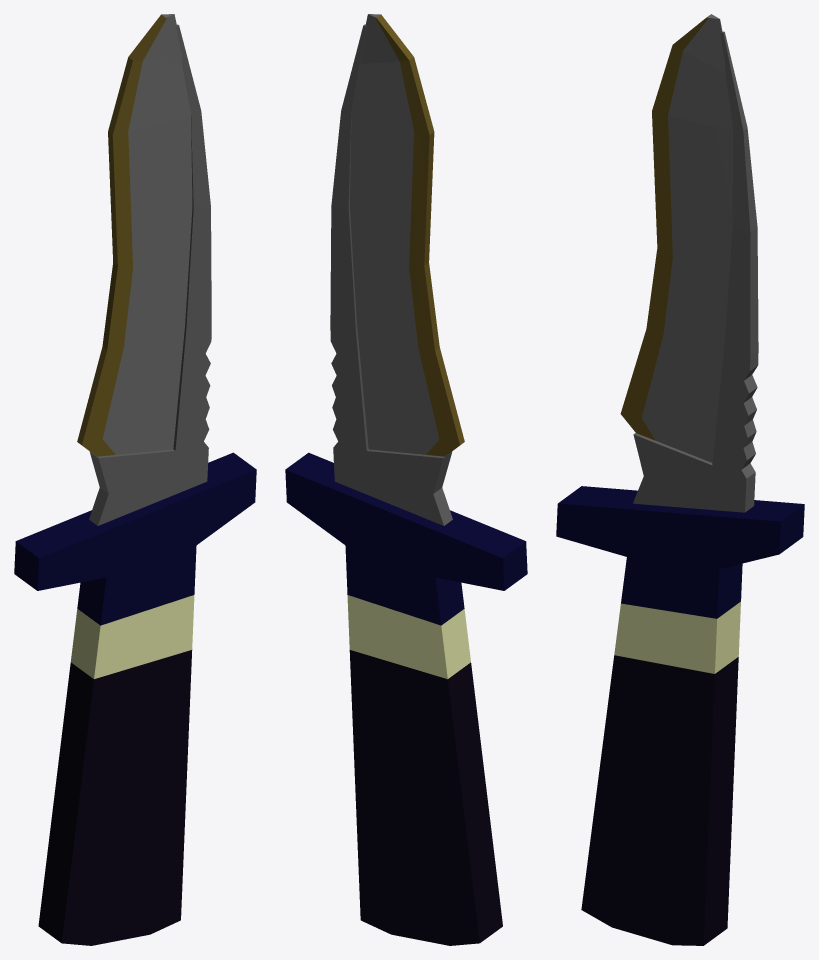
Rendered from knifecs.fbx.
The picture shows the model from 3 angles, left to right: view 1: azimuth 30°, elevation 25°; view 2: azimuth 150°, elevation 25°; view 3: azimuth 330°, elevation 25°; orthographic projection. The views are drawn at different scales.
Visible parts, largest first — view 1: 큐브; view 2: 큐브; view 3: 큐브.
Boxes of the visible parts, left/top/right/bottom form: 큐브: left=14, top=14, right=256, bottom=945; 큐브: left=285, top=14, right=527, bottom=945; 큐브: left=556, top=14, right=804, bottom=945.
Size of the model in its own units: 203 by 801 by 37.72.
